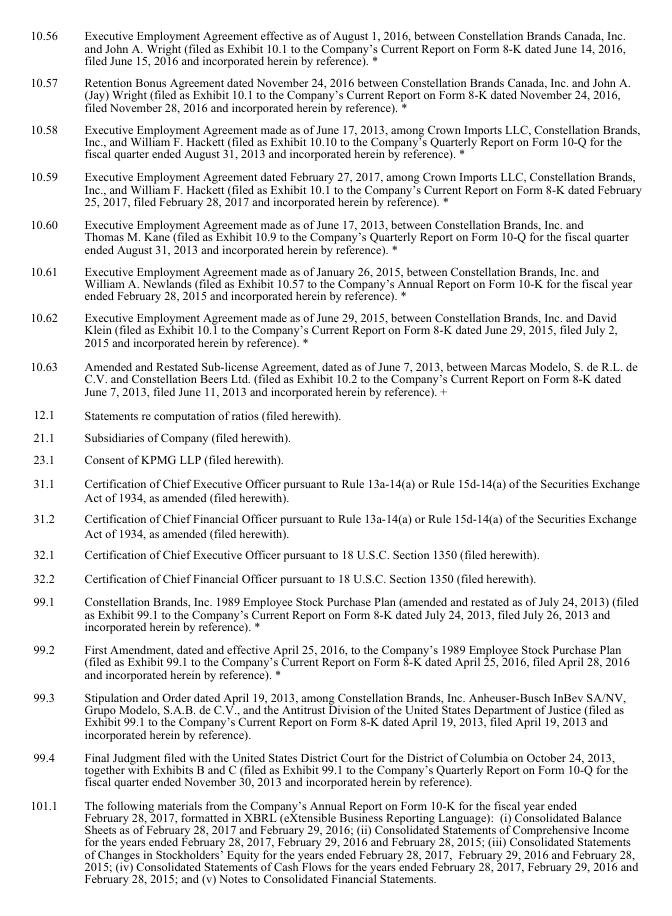table: (29, 28, 640, 884)
table column: (70, 28, 640, 884), (29, 28, 70, 884)
table row: (29, 792, 640, 884), (29, 685, 640, 745), (29, 353, 640, 402), (29, 164, 640, 212), (29, 589, 640, 637), (29, 637, 640, 685), (29, 70, 640, 117), (29, 117, 640, 164), (29, 212, 640, 259), (29, 259, 640, 306), (29, 306, 640, 353), (29, 745, 640, 792), (29, 28, 640, 70), (29, 470, 640, 507), (29, 507, 640, 543), (29, 565, 640, 589), (29, 402, 640, 425), (29, 425, 640, 448), (29, 448, 640, 470), (29, 543, 640, 565)
